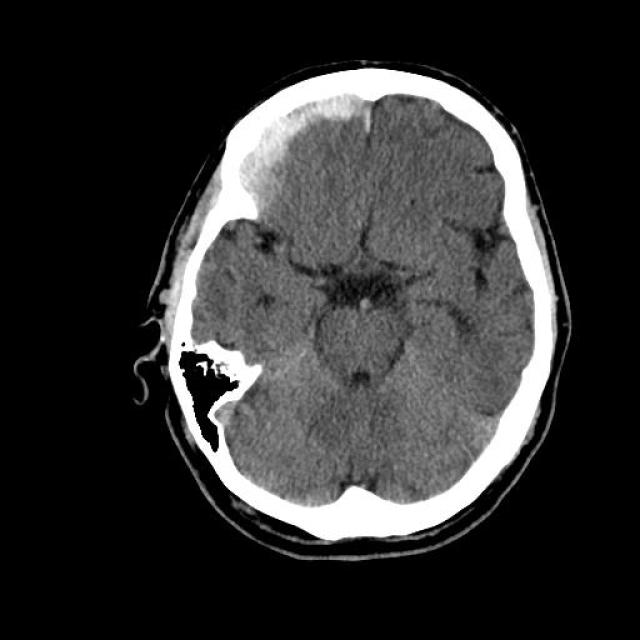Subdural: (215, 70, 376, 215)
